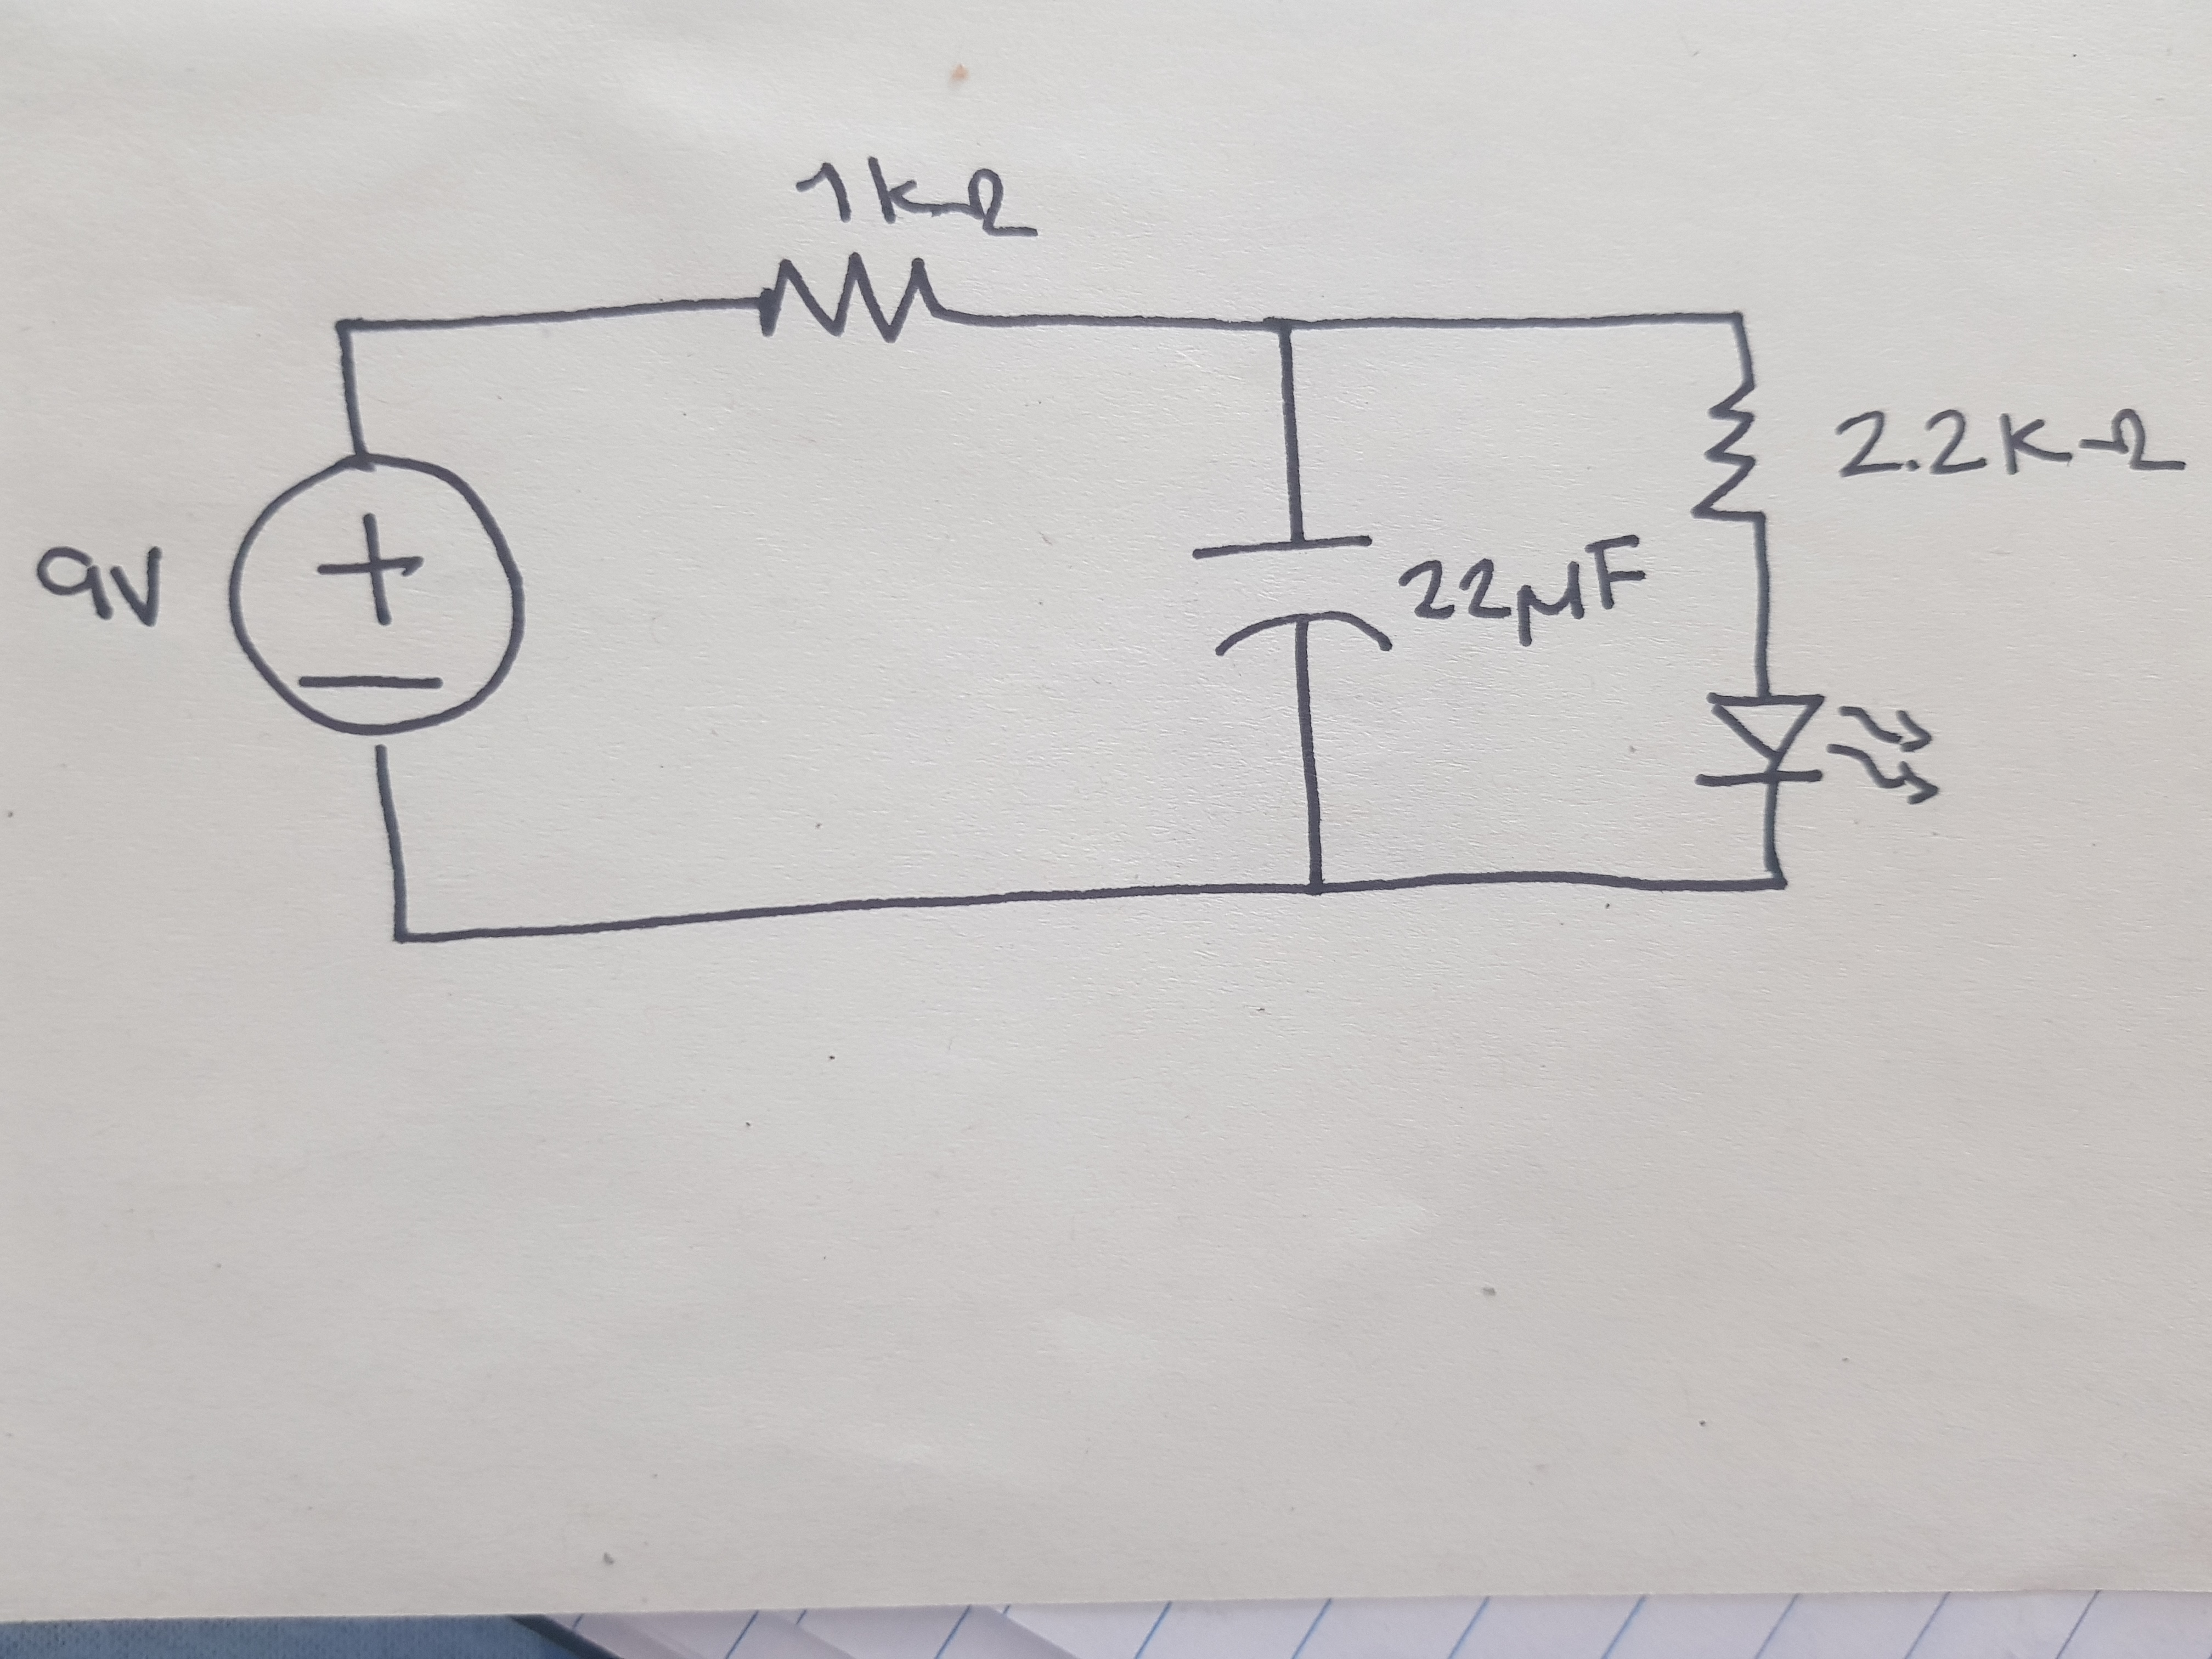capacitor.unpolarized: (1179, 519, 1400, 671)
diode.light_emitting: (1683, 676, 1952, 807)
junction: (1291, 856, 1352, 920), (373, 911, 439, 969), (1261, 300, 1313, 362), (320, 310, 381, 361), (1747, 863, 1799, 899), (1716, 300, 1763, 336)
resistor: (721, 247, 1001, 352), (1686, 383, 1778, 526)
text: (1395, 525, 1651, 655), (1825, 401, 2196, 490), (786, 146, 1040, 242), (21, 538, 171, 634)
voltage.dc: (218, 444, 538, 744)
